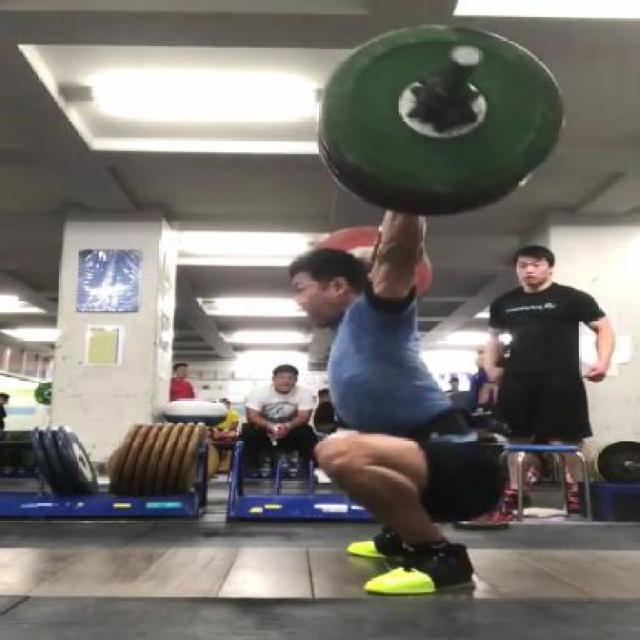Barbell: (440, 39, 486, 70)
